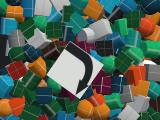Right: (46, 41, 104, 99)
